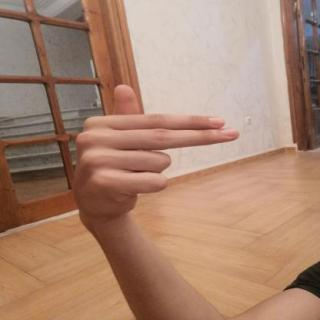GHAYN: (58, 75, 252, 222)
